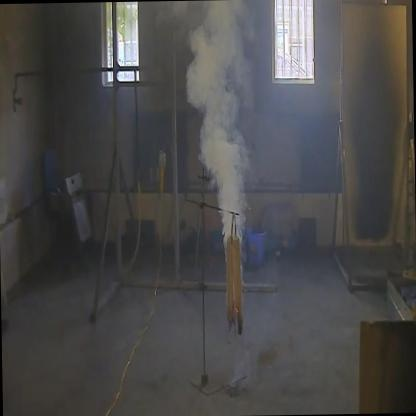smoke: (179, 0, 268, 253)
